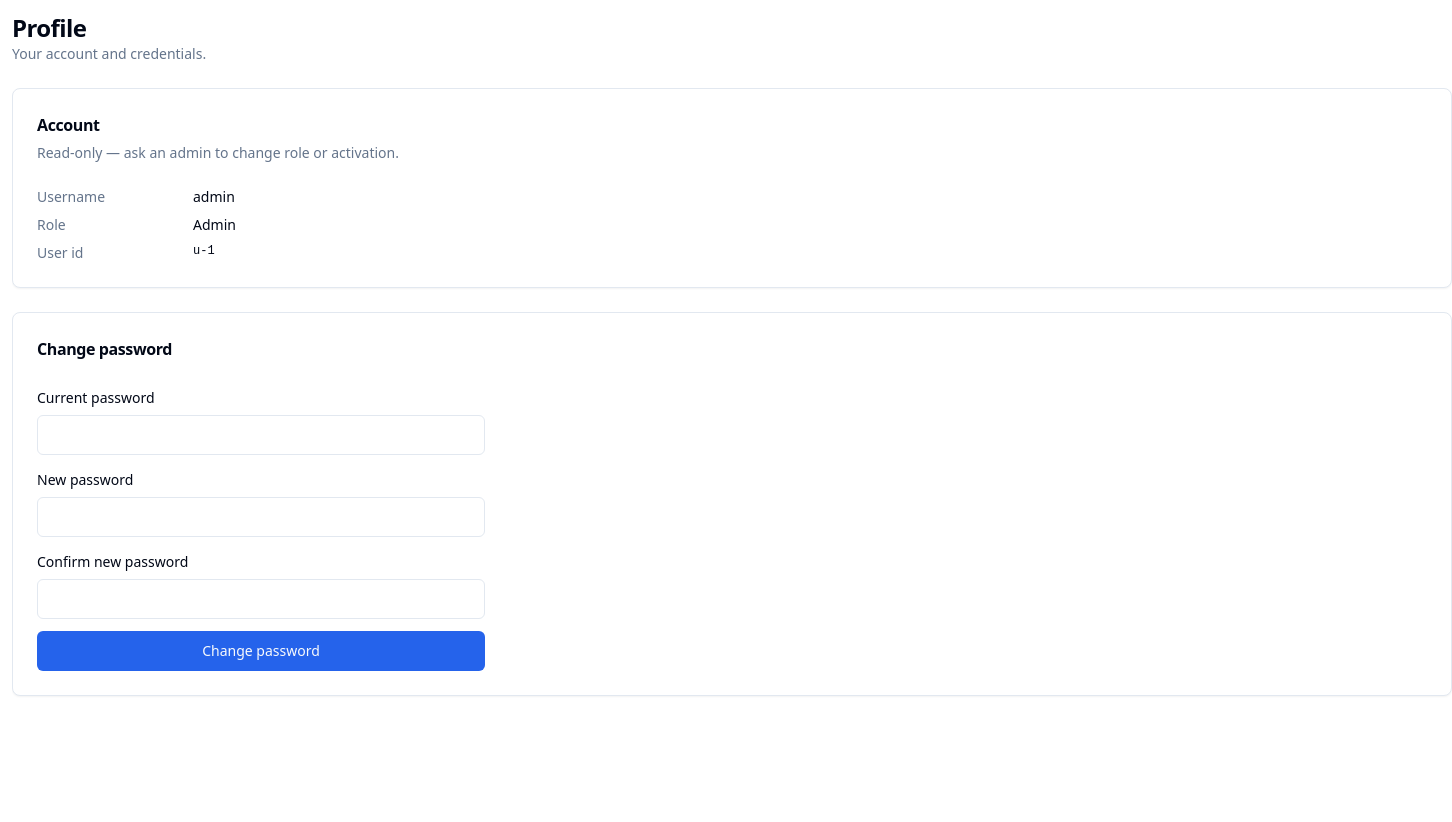
Scenario: ProfilePage › rejects when new and confirm don't match
Step 1. Type "old" into the password field labelled "Current password" → (261, 435), box 37,415 -> 485,455
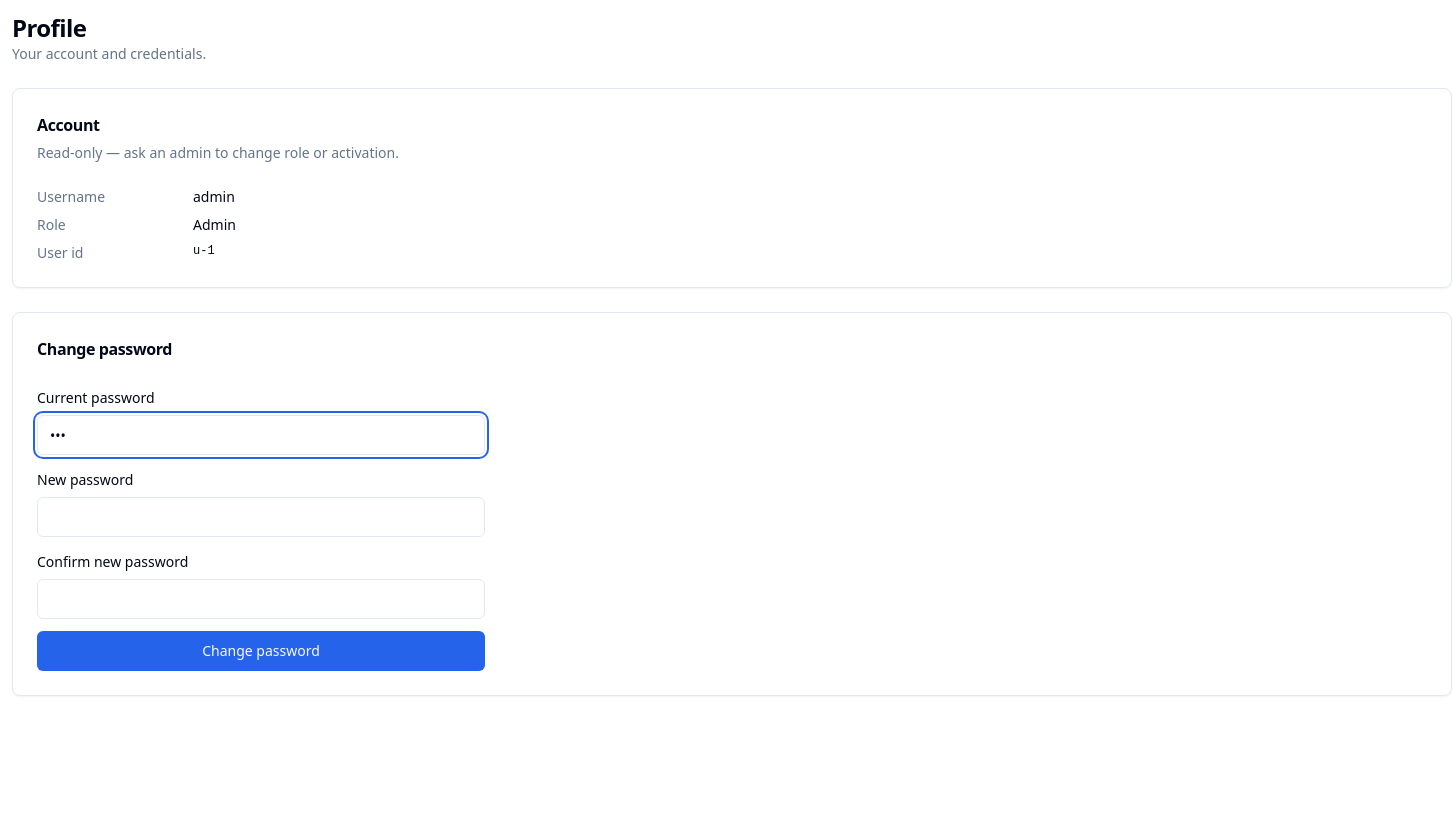
Step 2. Type "newsecret1" into the password field labelled "New password" → (261, 517), box 37,497 -> 485,537
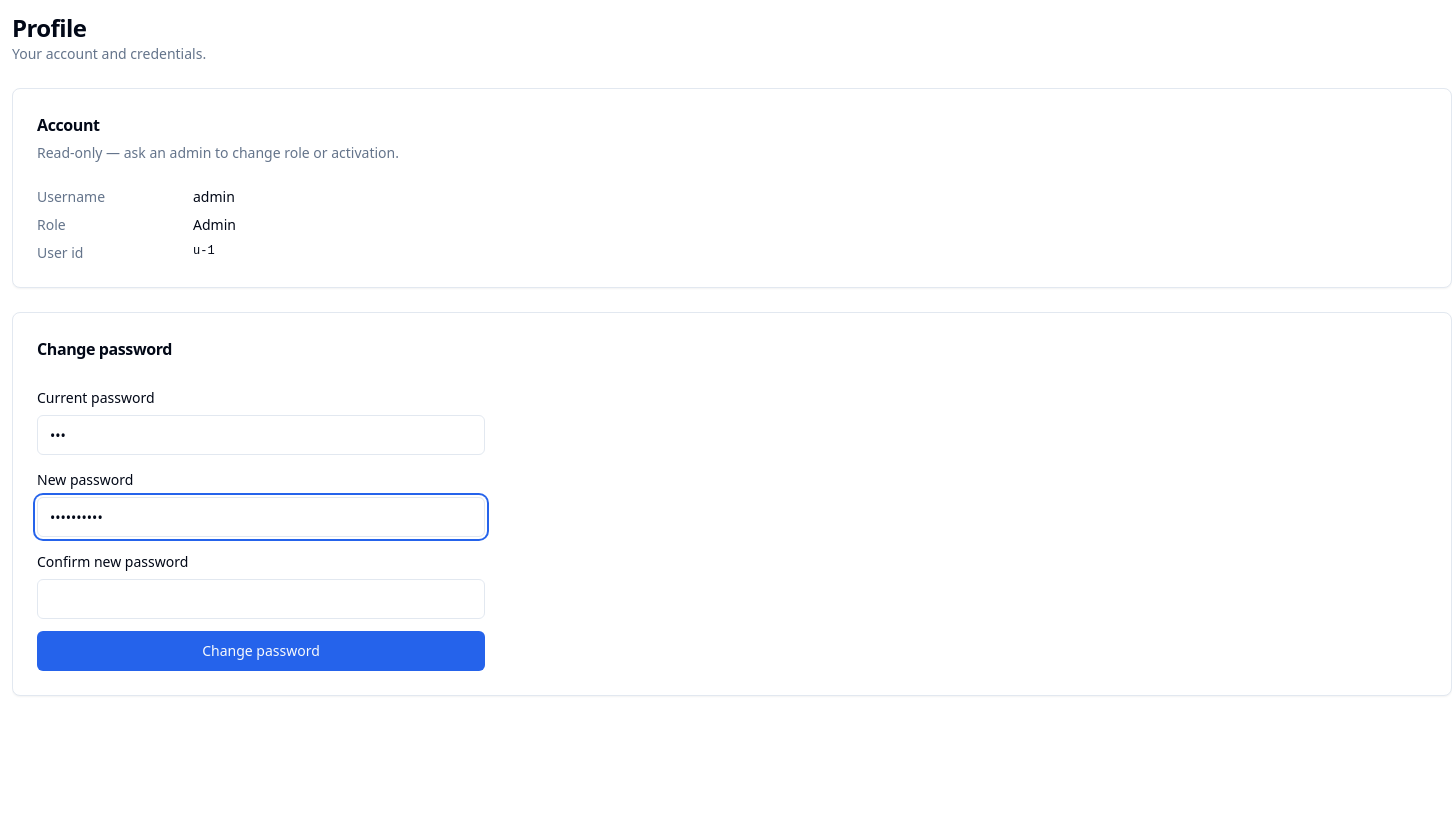
Step 3. Type "different" into the password field labelled "Confirm new password" → (261, 599), box 37,579 -> 485,619
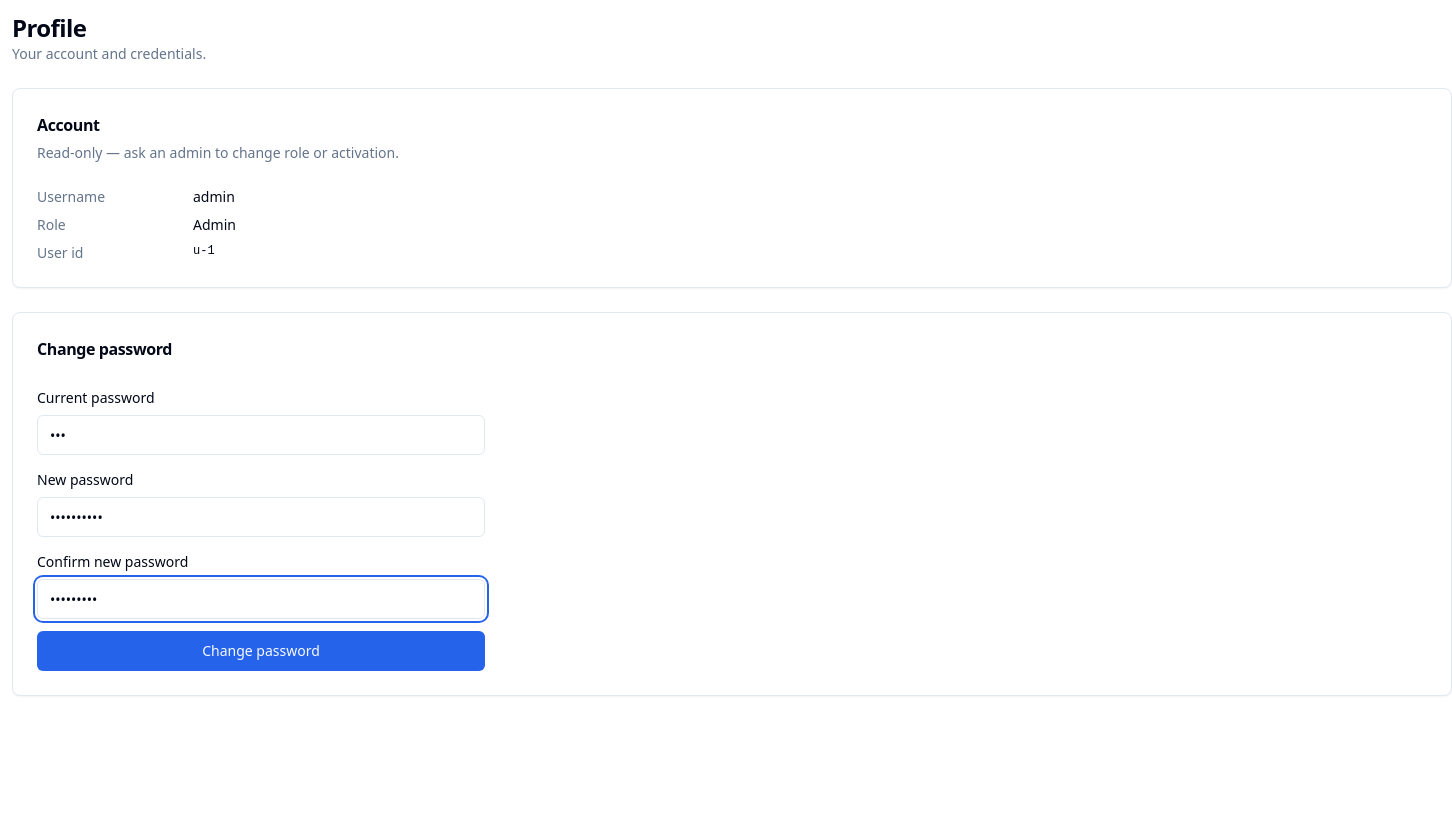
Step 4. Click the button "Change password" → (261, 651), box 37,631 -> 485,671
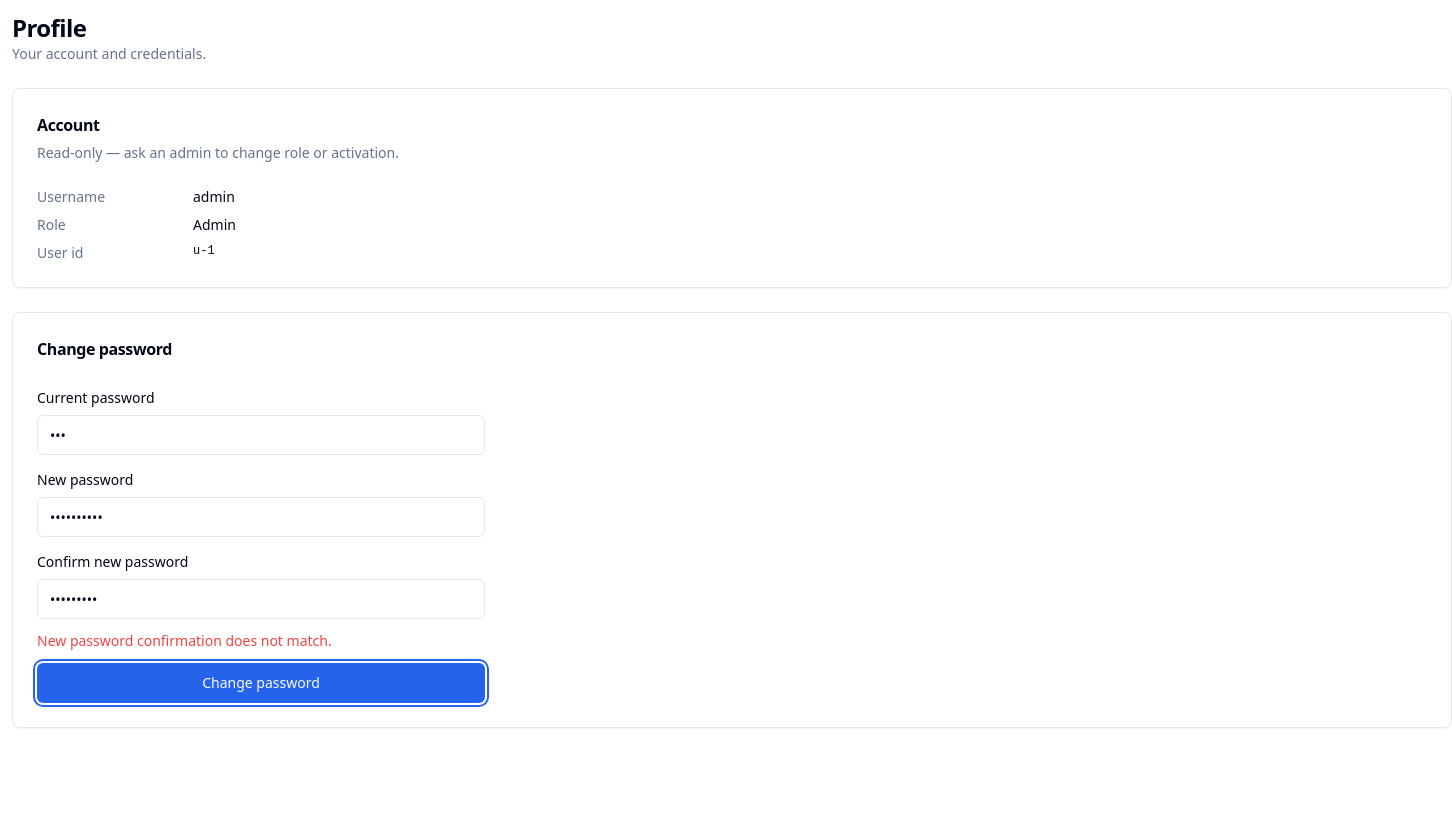
Expected: the message shows "does not match", 37,631 -> 332,650
